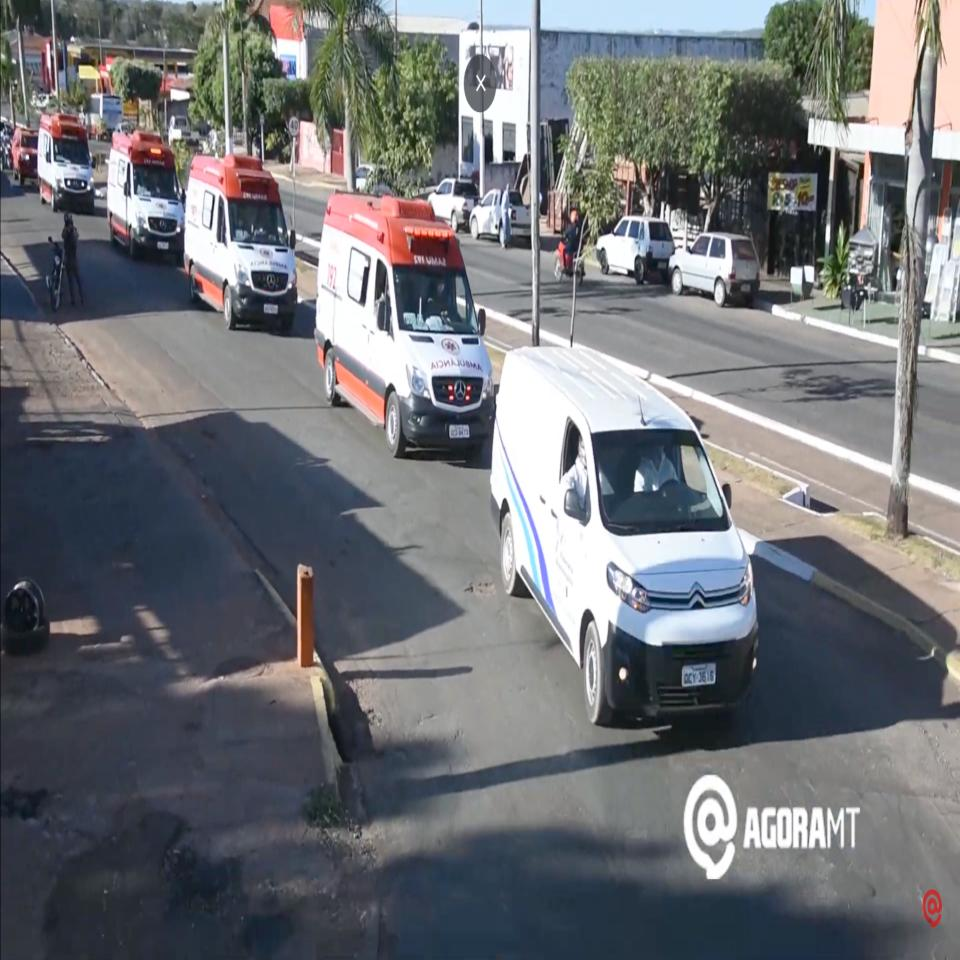bombeiro: (314, 192, 496, 459), (184, 153, 299, 333), (106, 130, 186, 264), (36, 112, 96, 216)
